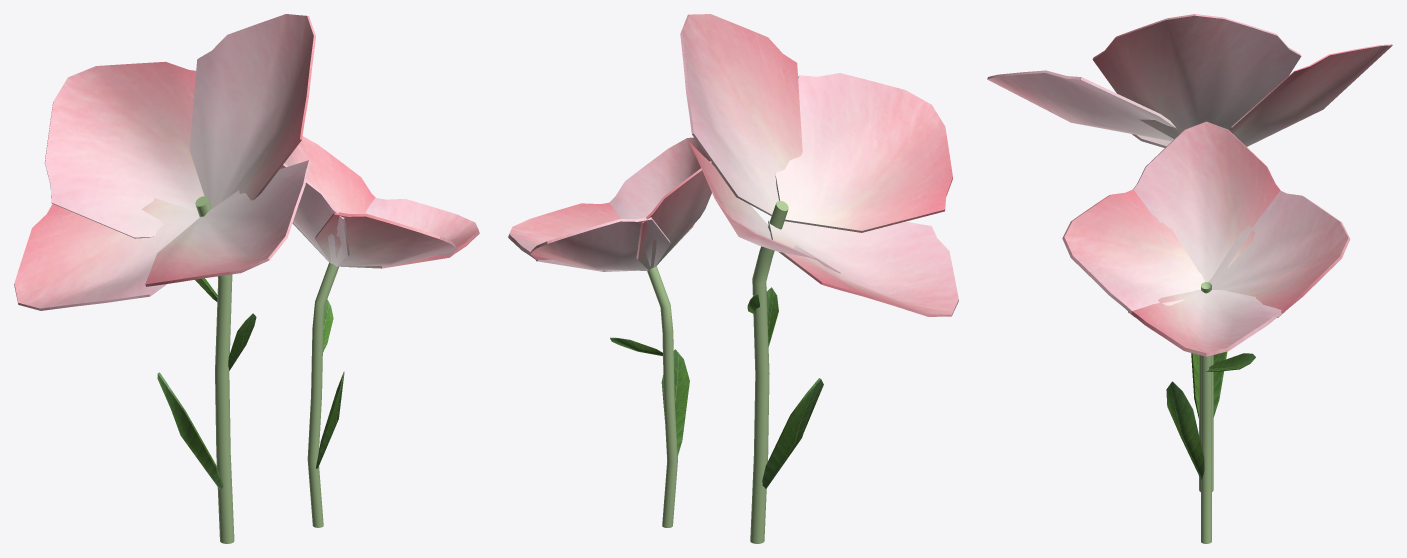
File: flower.fbx
The picture shows the model from 3 angles, left to right: view 1: azimuth 30°, elevation 25°; view 2: azimuth 150°, elevation 25°; view 3: azimuth 270°, elevation 25°; orthographic projection.
Visible parts, largest first — view 1: polySurface12; view 2: polySurface12; view 3: polySurface12.
Part boxes in pixels (x1=…): polySurface12: x1=14, y1=14, x2=479, y2=543; polySurface12: x1=508, y1=14, x2=958, y2=543; polySurface12: x1=987, y1=14, x2=1392, y2=543.
Size of the model in its own units: 7.18 by 7.87 by 5.57.
Materials: 1 (1 with a texture image).
